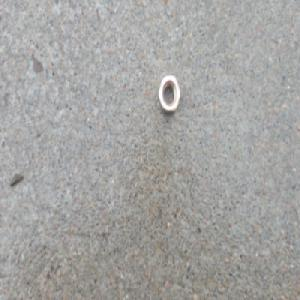Nut: (158, 73, 181, 113)
